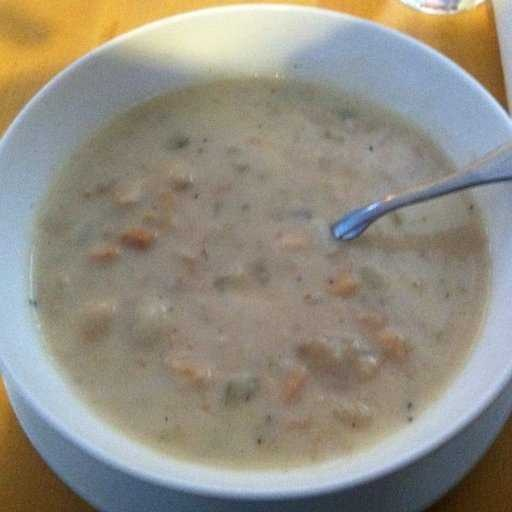soup: (19, 27, 509, 445)
